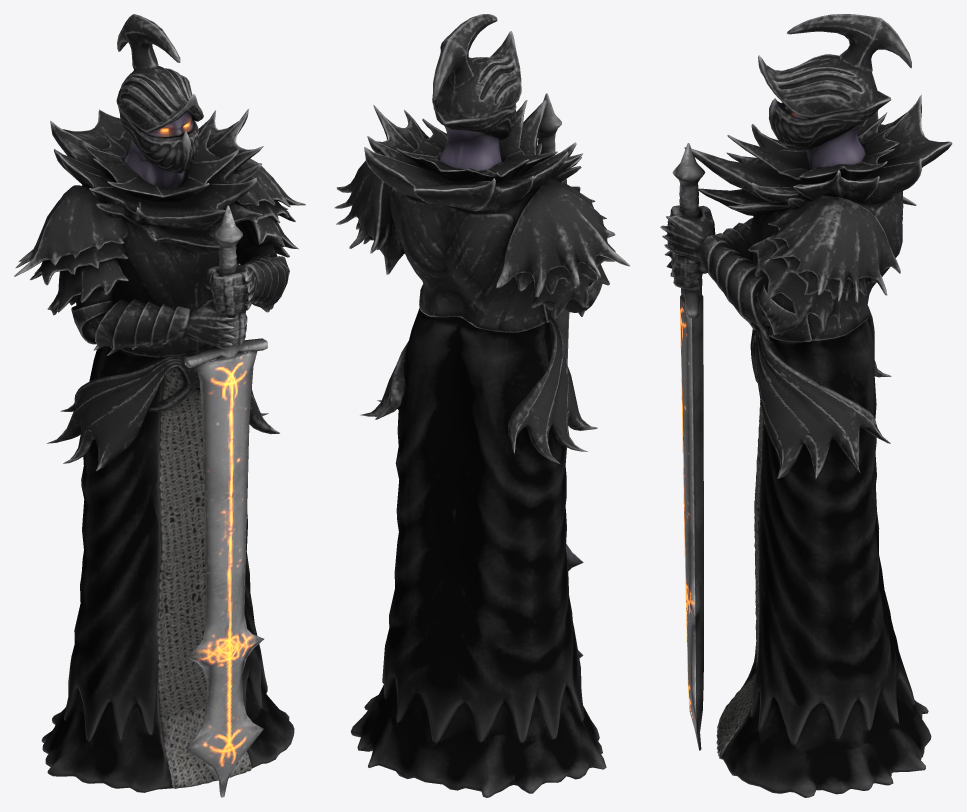
The model's file is MZ4250 - Haruman (Narzugon).glb.
The picture shows the model from 3 angles, left to right: view 1: azimuth 30°, elevation 25°; view 2: azimuth 150°, elevation 25°; view 3: azimuth 270°, elevation 25°; orthographic projection. The views are drawn at different scales.
Visible parts, largest first — view 1: body_low.001, sword_low.001; view 2: body_low.001, sword_low.001; view 3: body_low.001, sword_low.001.
Boxes of the visible parts, x1,y1,x2,y2 form: body_low.001: (14, 14, 305, 792); sword_low.001: (184, 205, 267, 797); body_low.001: (334, 14, 630, 797); sword_low.001: (537, 93, 583, 658); body_low.001: (660, 14, 952, 797); sword_low.001: (672, 143, 705, 750).
Size of the model in its own units: 2.86 by 6.85 by 2.47.
1 material, 1 textured.
